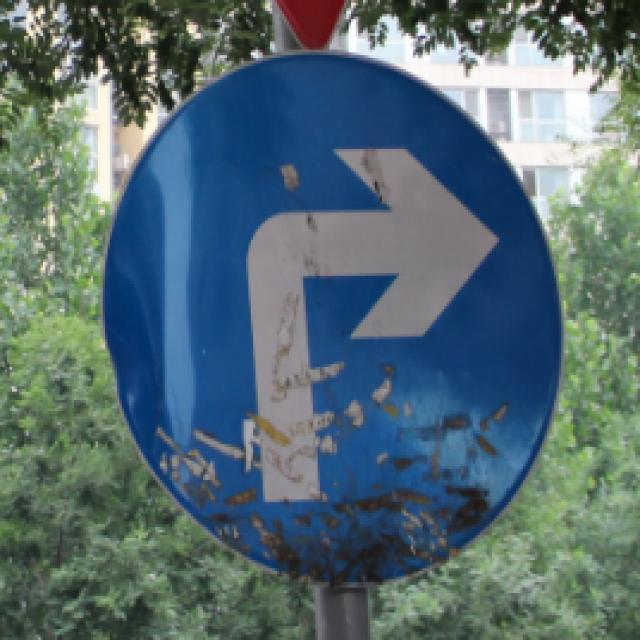Right: (106, 49, 558, 586)
